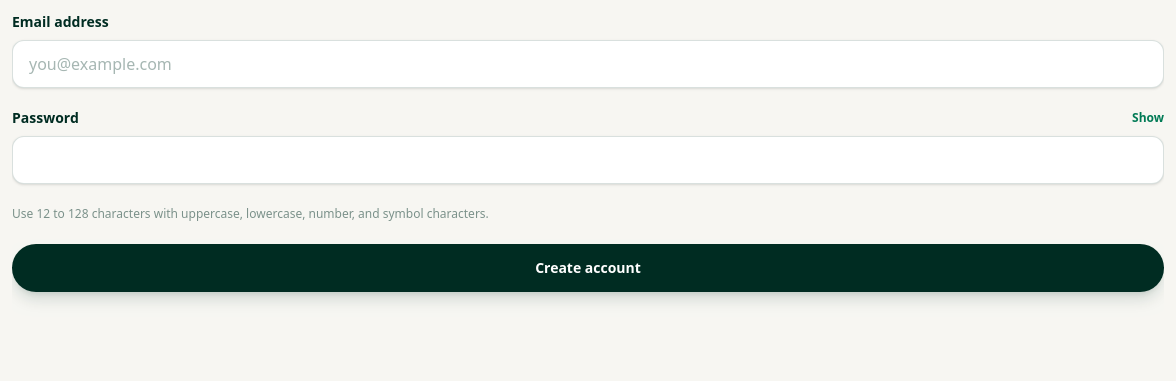
Scenario: frontend authentication interface › reports accessible client-side registration errors before sending data
In the field labelled "Email address": (588, 64) [12,40,1164,88], type "not-an-email"
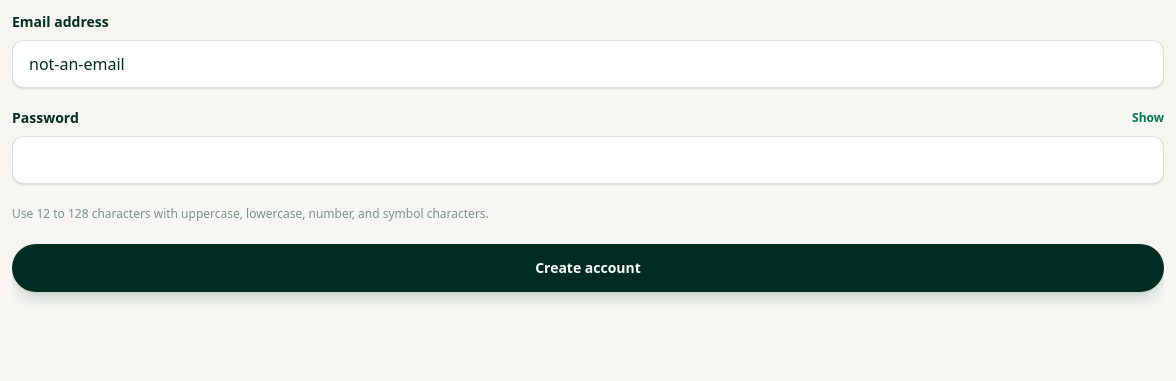
In the password field labelled "Password": (588, 160) [12,136,1164,184], type "weak"
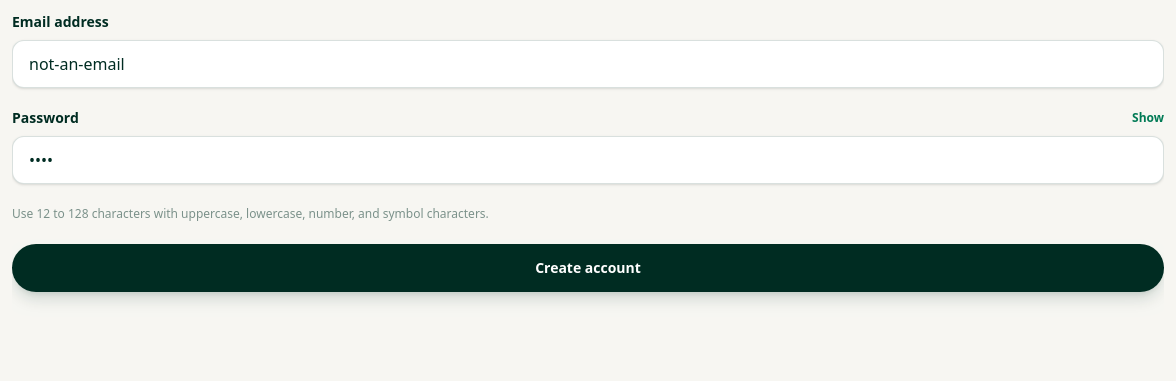
Click the button "Create account": (588, 268) [12,244,1164,292]
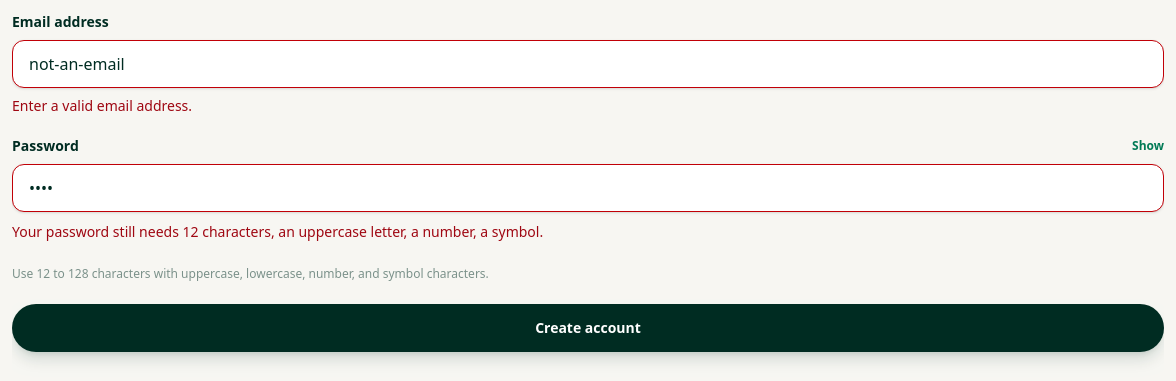
Now the text "Enter a valid email address." is shown, box [12,96,192,115]
Now the text "Your password still needs" is shown, box [12,222,543,241]
